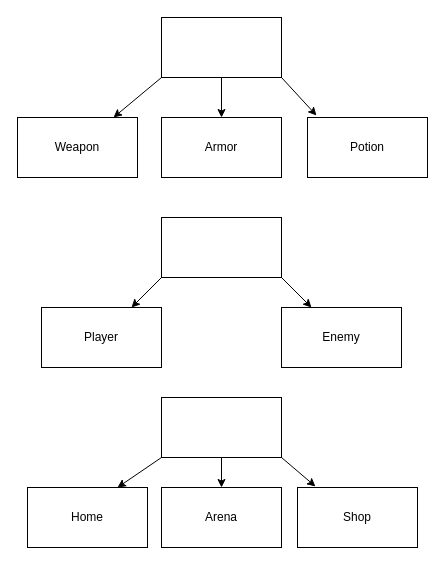
The diagram is 445 pixels wide and 565 high, and some of its shapes have lost their labels. Here are the shapes that lost their labels. From the top down, the centre of each, then its label:
At pixel 221 47: "Inventory".
At pixel 221 247: "Humanoid".
At pixel 221 427: "Building".
